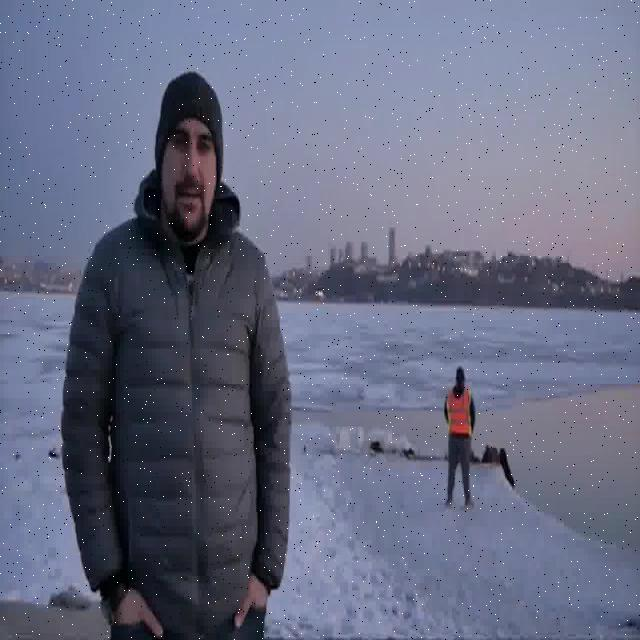Person: (61, 73, 293, 640), (430, 368, 487, 513)
Vest: (443, 386, 477, 440)
